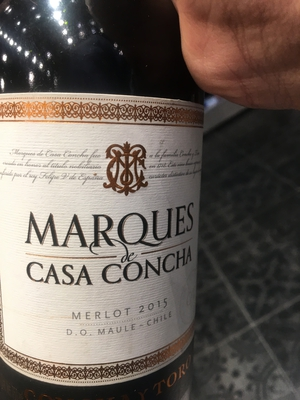marques de casa concha merlot: (1, 10, 221, 400)
